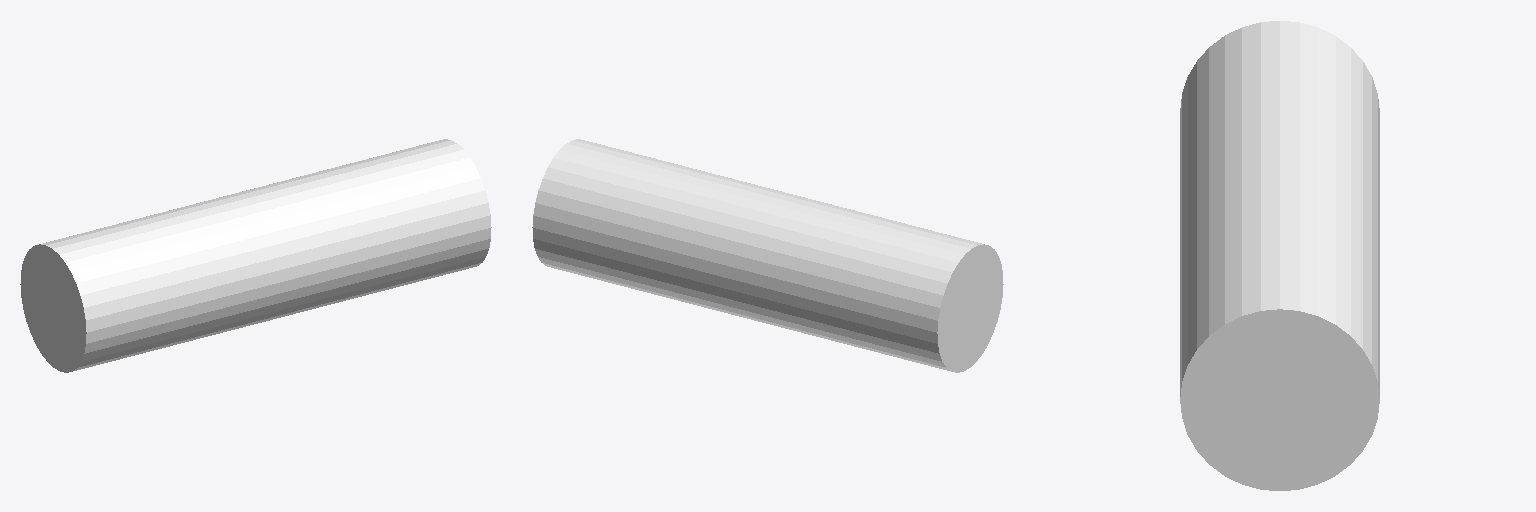
URDF robot description (board):
<?xml version="0.0" ?>
<robot name="board">
    <material name="white">
        <color rgba="1 1 1 1"/>
    </material>

    <link name="baseLink">
        <!-- from lego/lego.urdf -->
        <inertial>
            <origin rpy="0 0 0" xyz="0 0 0"/>
            <mass value="10.0"/>
            <inertia ixx="1" ixy="0" ixz="0" iyy="1" iyz="0" izz="1"/>
        </inertial>
        <visual>
            <origin rpy="1.57 0 0" xyz="0 0 0"/>
            <geometry>
                <!--        radius: 10mm, depth: 14.5mm-->
                <mesh filename="meshes/upper_peg.obj" scale="0.75 0.75 0.75"/>
                <!--        <box size="0.002 0.002 0.002"/>-->
            </geometry>
            <material name="white"/>
        </visual>
        <collision>
            <origin rpy="1.57 0 0" xyz="0 0 0"/>
            <geometry>
                <mesh filename="meshes/upper_peg_collision.obj" scale="0.75 0.75 0.75"/>
                       <!-- <box size="2 2 2"/> -->
            </geometry>
        </collision>
    </link>
</robot>

--- Render facts (derived) ---
The picture shows the robot from 3 angles, left to right: view 1: azimuth 30°, elevation 25°; view 2: azimuth 150°, elevation 25°; view 3: azimuth 270°, elevation 25°; orthographic projection.
Robot: board — 1 links, 0 joints (none); root link baseLink; default pose: every joint at zero.
Visible links, largest first — view 1: baseLink; view 2: baseLink; view 3: baseLink.
Boxes of the visible links, x1=… form: baseLink: x1=20, y1=139, x2=491, y2=372; baseLink: x1=532, y1=139, x2=1003, y2=372; baseLink: x1=1180, y1=21, x2=1379, y2=490.
Bounding box of the posed robot: 0.4979 × 0.1401 × 0.1477 m (x, y, z).
Meshes: 1 distinct files referenced, 1 mesh visuals loaded (1 OBJ).